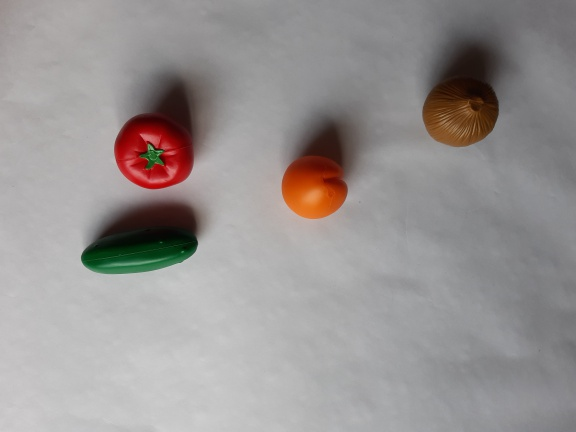apricot: (279, 151, 354, 223)
cucumber: (74, 221, 204, 280)
onion: (417, 73, 506, 152)
tomato: (108, 106, 201, 193)
